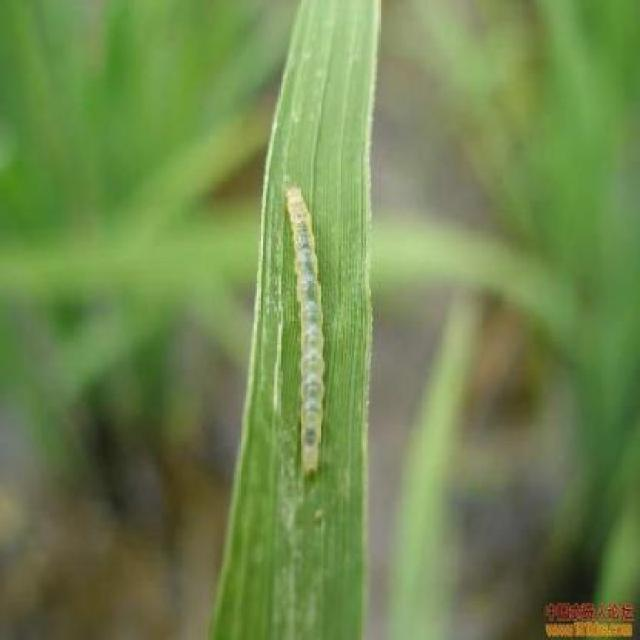leaf-folder: (279, 168, 353, 490)
